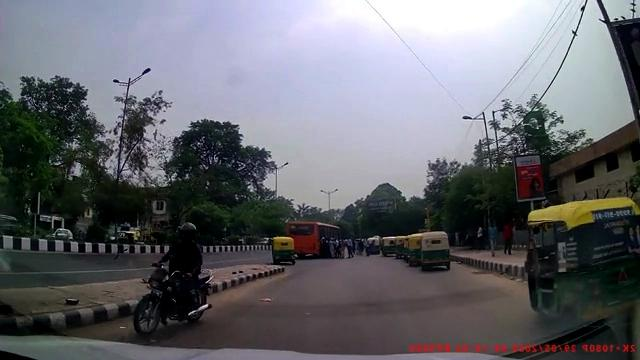motorcycle_with_helmet: (132, 220, 213, 336)
